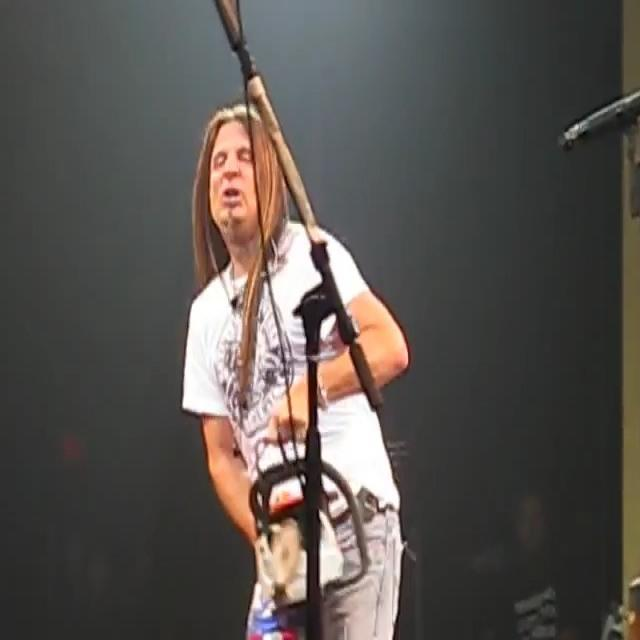Chainsaw: (232, 372, 376, 610)
